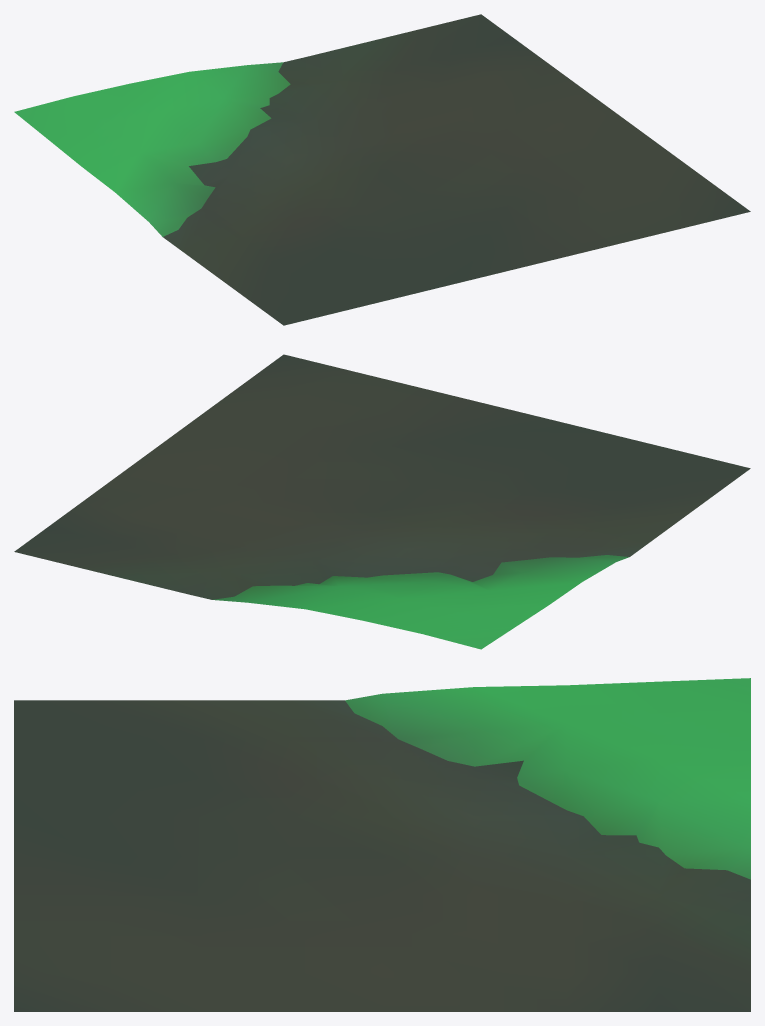
The model's file is LevelD4.fbx.
The picture shows the model from 3 angles, top to bottom: view 1: azimuth 30°, elevation 25°; view 2: azimuth 150°, elevation 25°; view 3: azimuth 270°, elevation 25°; orthographic projection. The views are drawn at different scales.
Visible parts, largest first — view 1: GroundD4; view 2: GroundD4; view 3: GroundD4.
Part boxes in pixels (box(x1,y1,x2,y2)): GroundD4: box(14, 14, 750, 325); GroundD4: box(14, 354, 750, 649); GroundD4: box(14, 678, 750, 1011).
Bounding box in the file's own units: 9057 × 413 × 9057.
